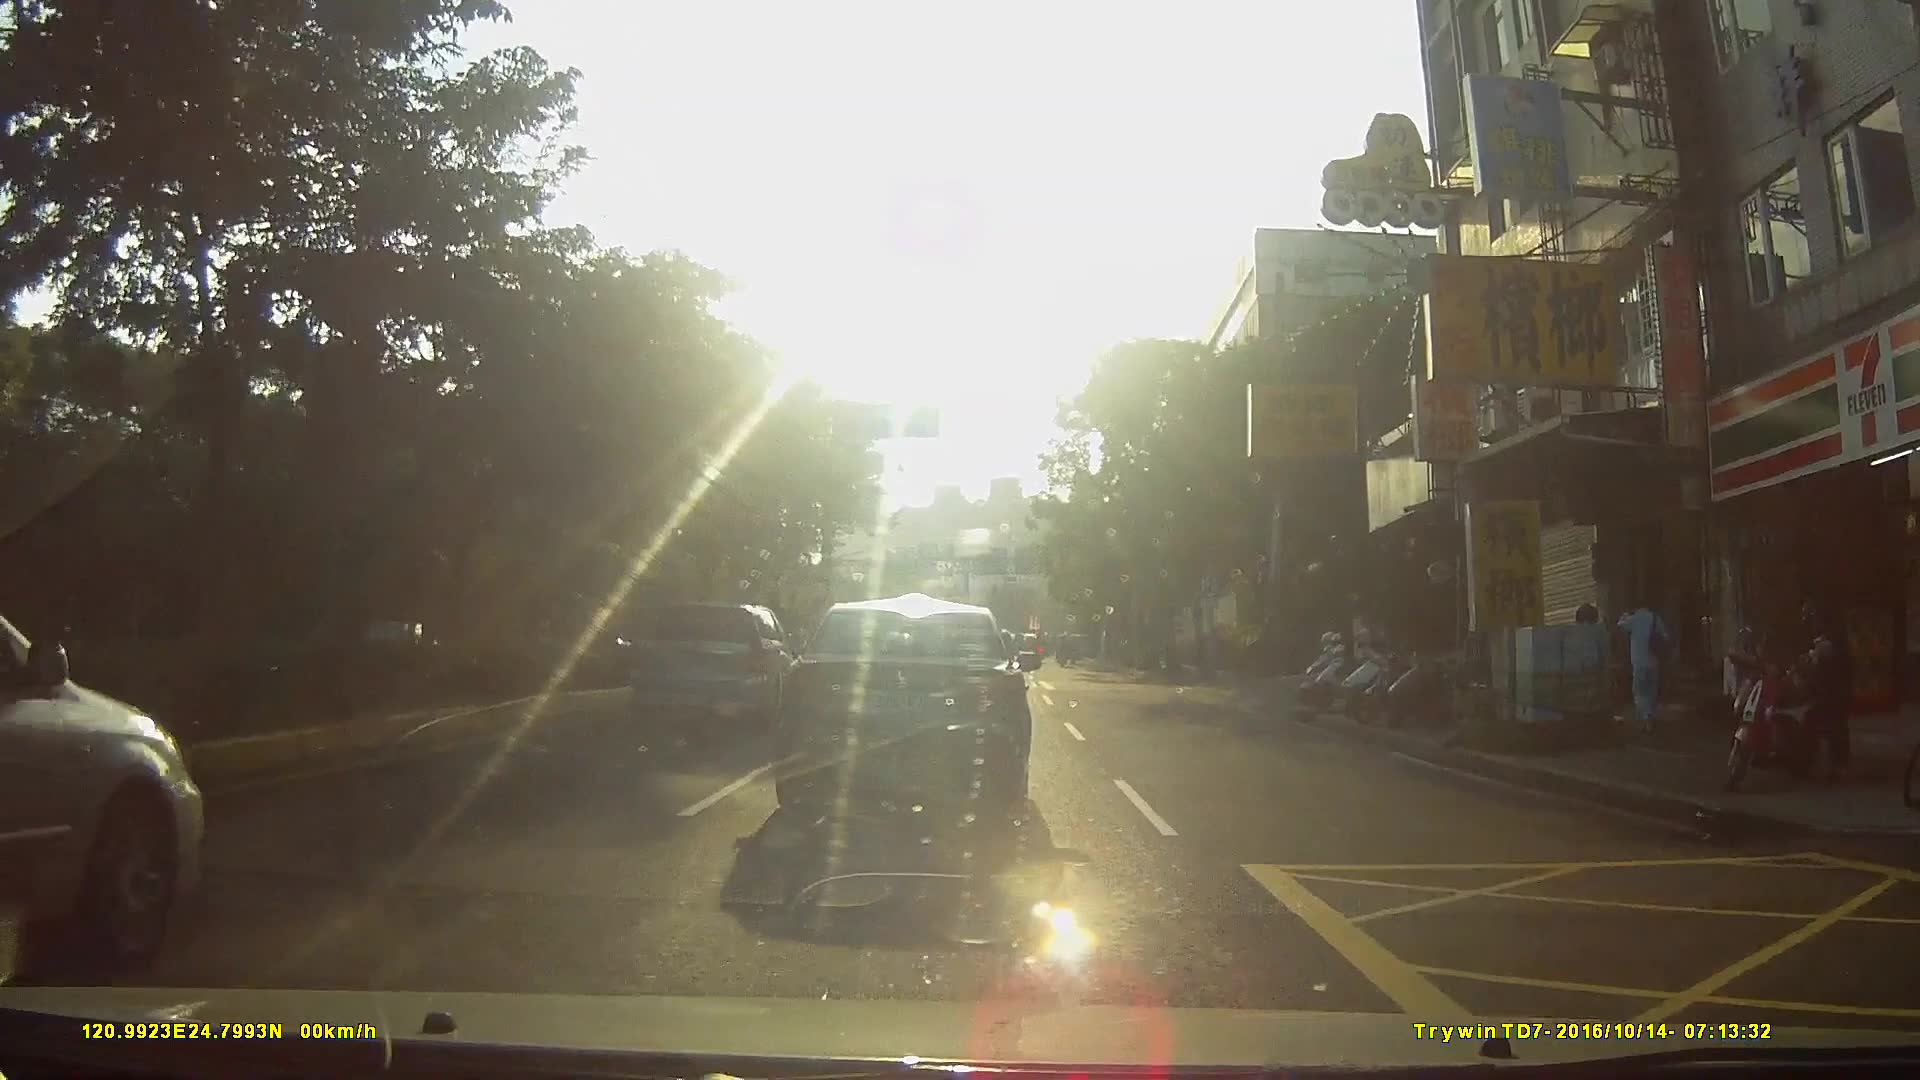pedestrian: (1800, 612, 1863, 784), (1618, 588, 1681, 735)
vehicle: (1, 584, 210, 987), (782, 590, 1060, 832), (636, 600, 803, 728)
